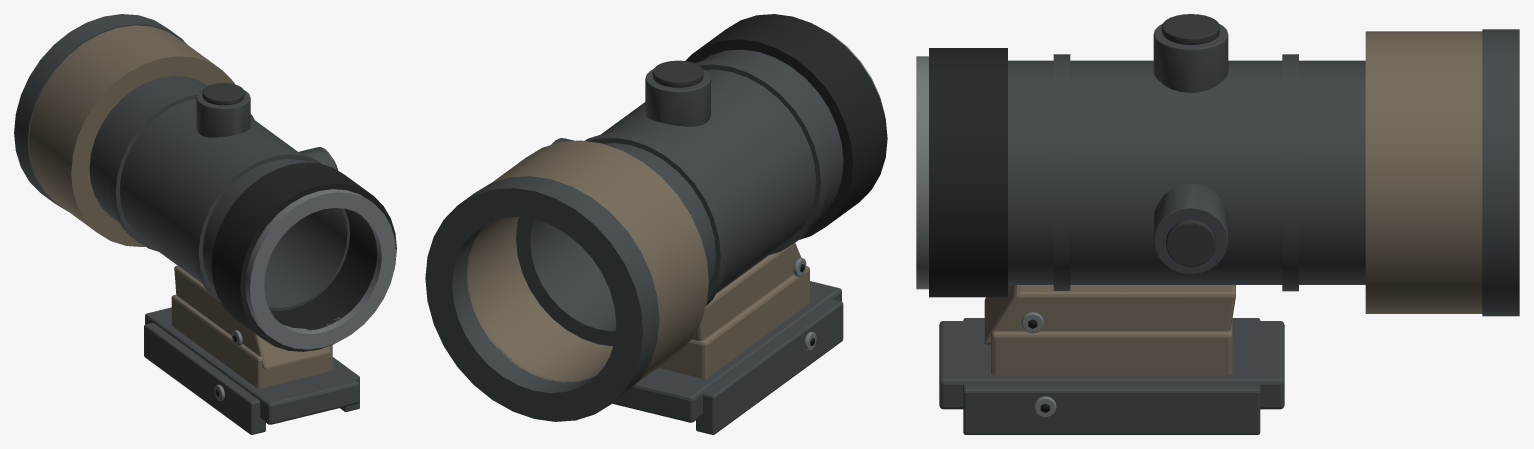
File: acog.glb
3 views of the same model, side by side, from view 1: azimuth 30°, elevation 25°; view 2: azimuth 150°, elevation 25°; view 3: azimuth 270°, elevation 25° (orthographic). The views are drawn at different scales.
Visible parts, largest first — view 1: acog_metal, acog_bronze, acog_Rear_ocular, acog_steel, acog_polymer; view 2: acog_metal, acog_bronze, acog_Rear_ocular, acog_polymer, acog_steel; view 3: acog_metal, acog_bronze, acog_Rear_ocular, acog_steel, acog_polymer.
Part boxes in pixels (<box>): acog_metal: <box>14,14,359,434</box>; acog_bronze: <box>29,25,332,388</box>; acog_Rear_ocular: <box>211,162,396,351</box>; acog_steel: <box>214,189,396,400</box>; acog_polymer: <box>202,83,338,170</box>; acog_metal: <box>425,49,843,434</box>; acog_bronze: <box>466,140,809,383</box>; acog_Rear_ocular: <box>685,14,887,239</box>; acog_polymer: <box>652,60,703,87</box>; acog_steel: <box>793,25,885,351</box>; acog_metal: <box>939,24,1519,434</box>; acog_bronze: <box>984,31,1482,375</box>; acog_Rear_ocular: <box>929,48,1007,297</box>; acog_steel: <box>916,56,1056,417</box>; acog_polymer: <box>1161,14,1219,266</box>.
Bounding box in the file's own units: 0.0755 × 0.099 × 0.145.
